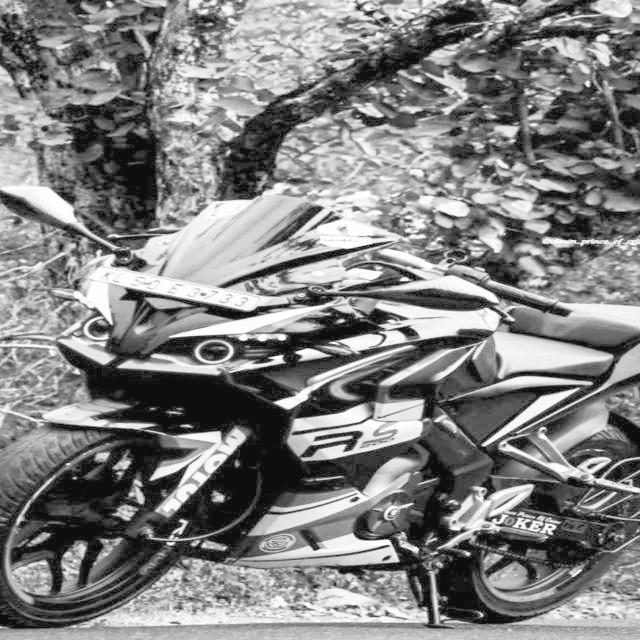Bike: (4, 182, 640, 639)
